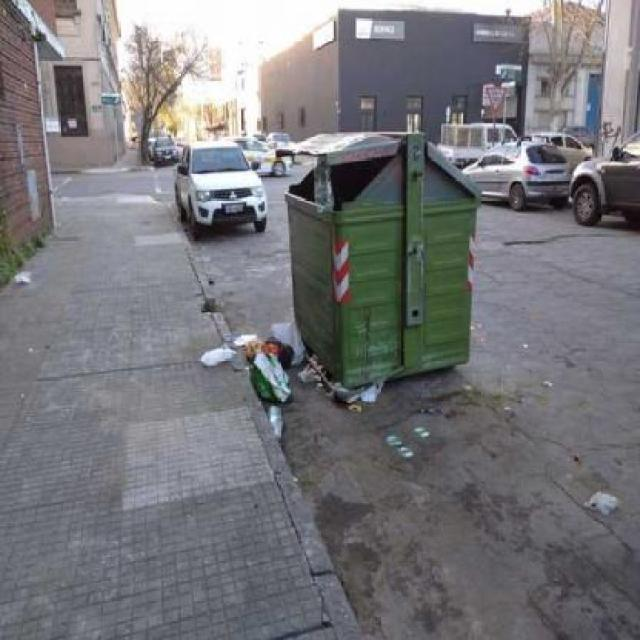garbage: (202, 308, 324, 442), (5, 265, 60, 312), (303, 153, 336, 220), (331, 379, 389, 409)
